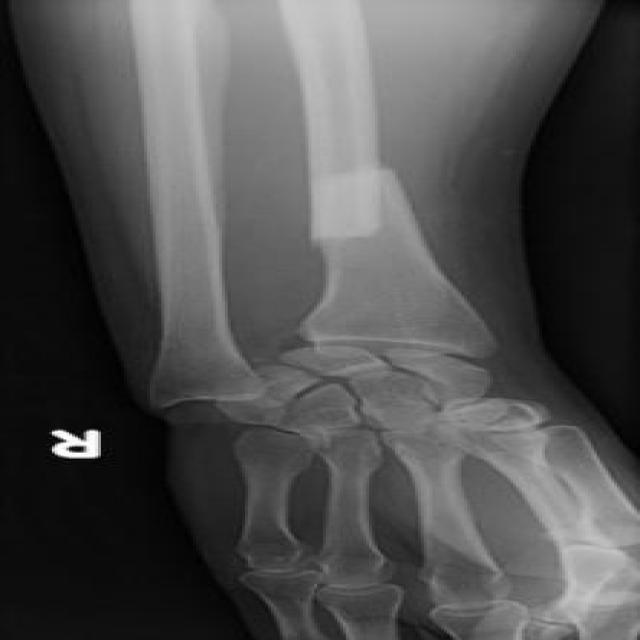bone: (274, 151, 421, 263)
